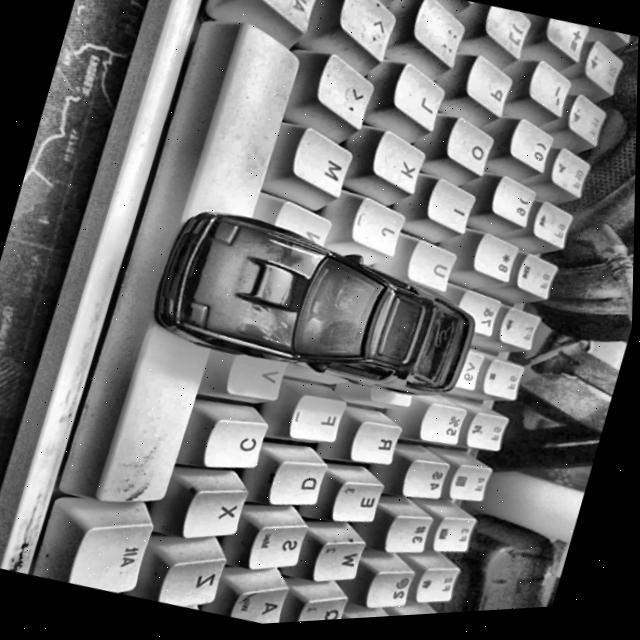car: (142, 190, 495, 427)
